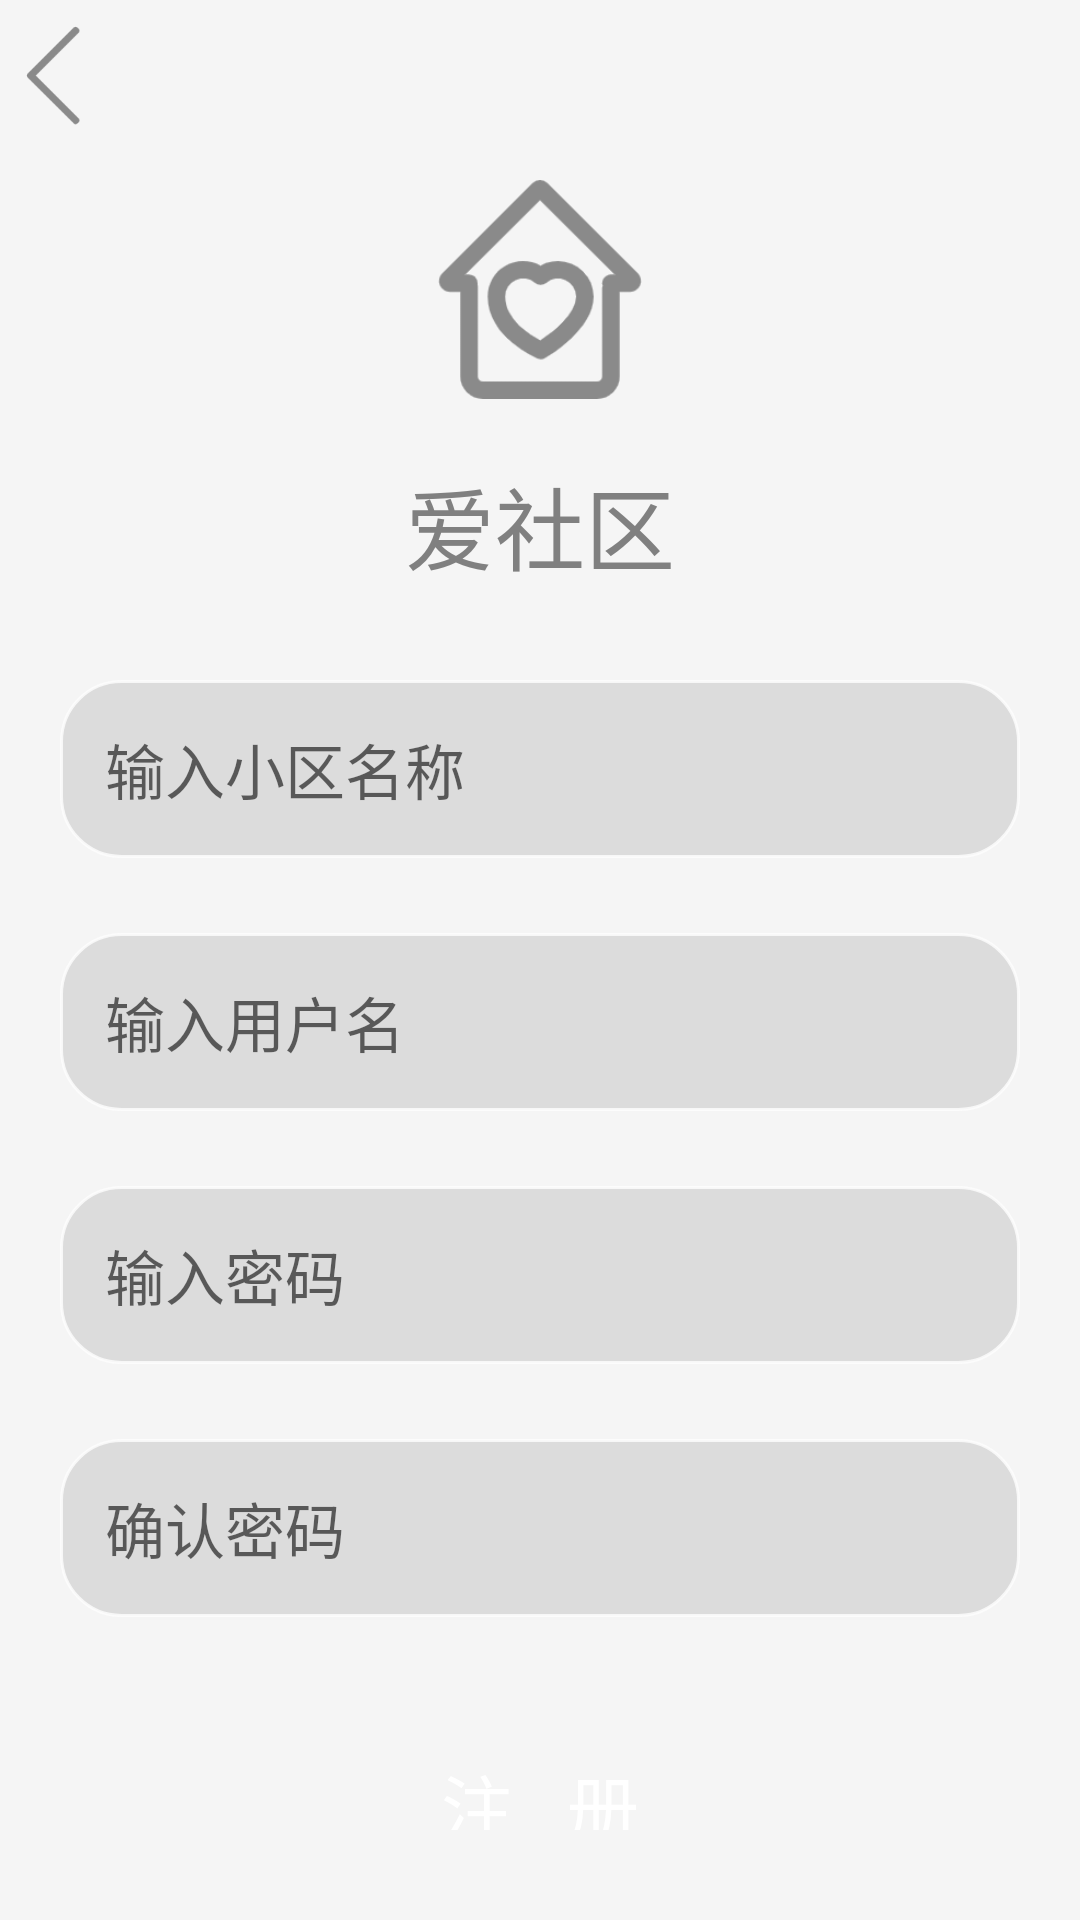

Point at icon controls on the screen. Image size 1080 × 1920, points as point (x, y).
back: point (53, 76)
